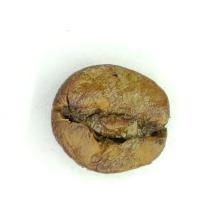NG: (82, 76, 157, 158)
